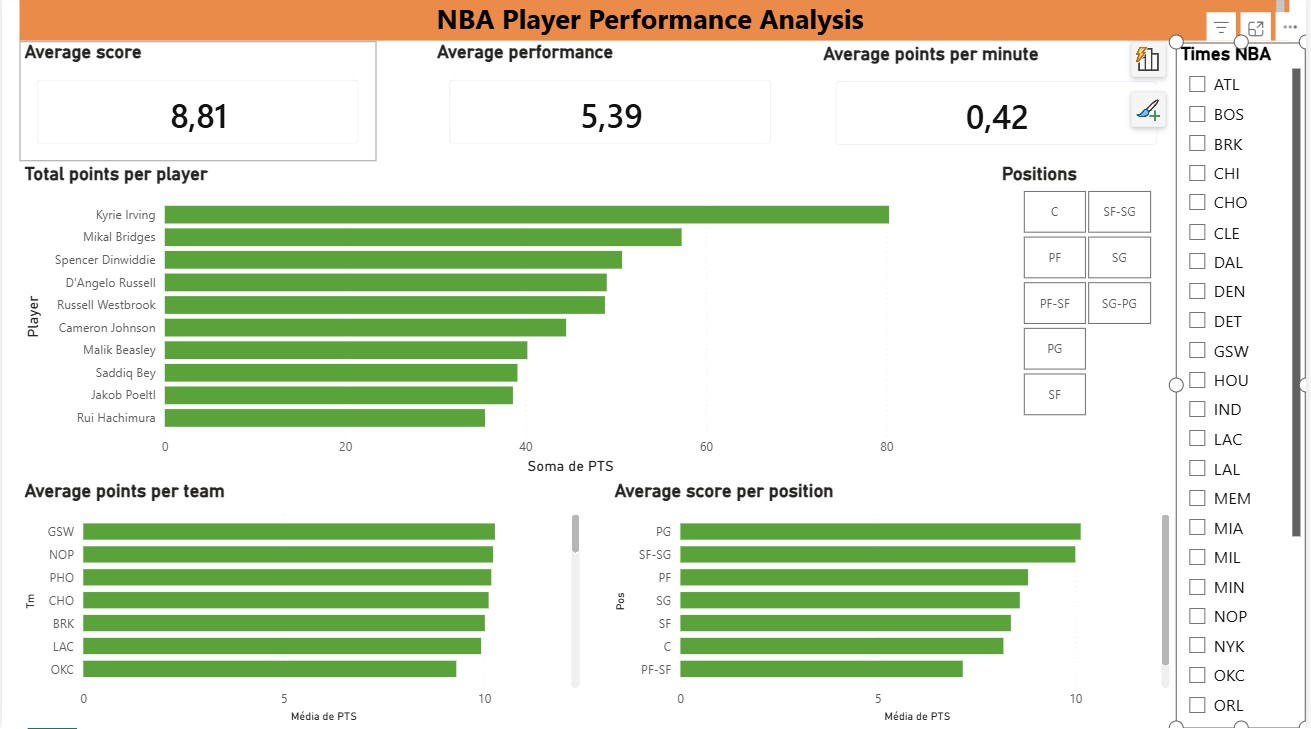

What the dashboard file says about the page in this screenshot:
{"tool":"powerbi","page":{"name":"Página 1","canvas":[1280,720],"ordinal":0},"visuals":[{"type":"cardVisual","title":"Average score","fields":{"Data":["Avg(nba_analysis nba_players.PTS)"]},"box":[16.7,45,350,118.3],"z":0},{"type":"cardVisual","title":"Average performance","fields":{"Data":["Avg(nba_analysis nba_players.Score)"]},"box":[421.7,45,350,118],"z":1000},{"type":"cardVisual","title":"Average points per minute","fields":{"Data":["Avg(nba_analysis nba_players.PTS_per_min)"]},"box":[801.7,46.7,350,118],"z":2000},{"type":"clusteredBarChart","title":"Total points per player","fields":{"Category":["nba_analysis nba_players.Player"],"Y":["Sum(nba_analysis nba_players.PTS)"]},"box":[16.7,165,951.7,311.7],"z":3000},{"type":"clusteredBarChart","title":"Average points per team","fields":{"Category":["nba_analysis nba_players.Tm"],"Y":["Avg(nba_analysis nba_players.PTS)"]},"box":[16.7,476.7,555,243.3],"z":4000},{"type":"clusteredBarChart","title":"Average score per position","fields":{"Category":["nba_analysis nba_players.Pos"],"Y":["Avg(nba_analysis nba_players.PTS)"]},"box":[596.7,476.7,555,243.3],"z":5000},{"type":"slicer","title":"Times NBA","fields":{"Values":["nba_analysis nba_players.Tm"]},"box":[1151.7,46.7,128.3,673.3],"z":5001},{"type":"slicer","title":"Positions","fields":{"Values":["nba_analysis nba_players.Pos"]},"box":[976.7,165,175,255],"z":5002},{"type":"textbox","box":[16.7,0,1246.7,45],"z":5003}]}

Visuals, with their boxes on the page's 1280x720 design canvas (x1, y1, x2, y2). These are canvas units, not pixel positions in the 1311x729 screenshot, which may show the page scaled, cropped or inside an application window:
"Average score" cardVisual: left=17, top=45, right=367, bottom=163
"Average performance" cardVisual: left=422, top=45, right=772, bottom=163
"Average points per minute" cardVisual: left=802, top=47, right=1152, bottom=165
"Total points per player" clusteredBarChart: left=17, top=165, right=968, bottom=477
"Average points per team" clusteredBarChart: left=17, top=477, right=572, bottom=720
"Average score per position" clusteredBarChart: left=597, top=477, right=1152, bottom=720
"Times NBA" slicer: left=1152, top=47, right=1280, bottom=720
"Positions" slicer: left=977, top=165, right=1152, bottom=420
textbox: left=17, top=0, right=1263, bottom=45
